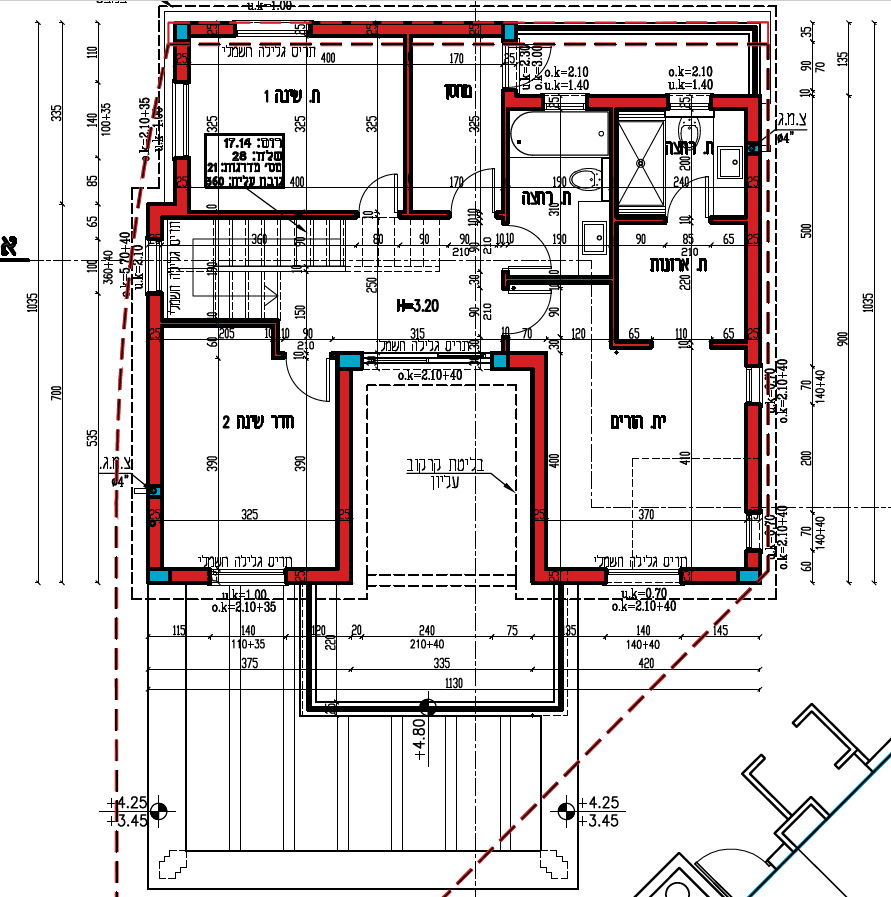door: (510, 287, 561, 340), (284, 365, 331, 408), (514, 224, 556, 270), (450, 164, 498, 204), (354, 170, 401, 207), (516, 289, 556, 330), (669, 174, 710, 210)
wall: (339, 416, 350, 577), (149, 342, 159, 478), (535, 358, 541, 575), (749, 248, 758, 324), (590, 99, 664, 106)
window: (370, 347, 492, 375), (603, 559, 684, 594), (206, 562, 288, 590), (232, 14, 313, 41), (168, 78, 193, 160), (737, 364, 766, 408)
